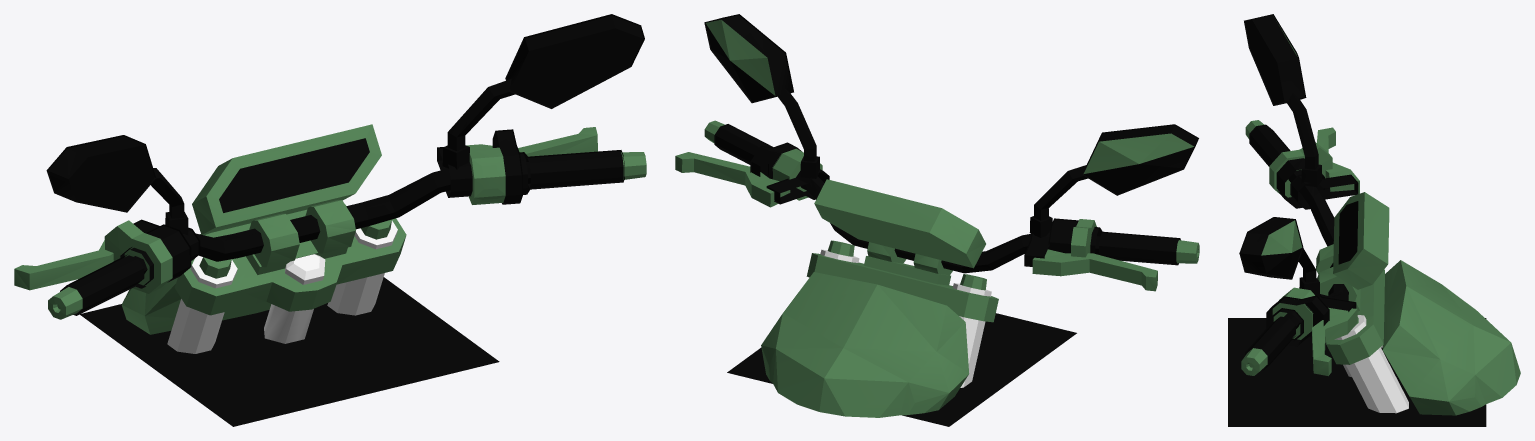
The model's file is BikeHandlesNew.gltf.
3 views of the same model, side by side, from view 1: azimuth 30°, elevation 25°; view 2: azimuth 150°, elevation 25°; view 3: azimuth 270°, elevation 25° (orthographic). The views are drawn at different scales.
Parts seen in each view (by area): view 1: HandlesBike_V2, ImageRef__1_; view 2: HandlesBike_V2, ImageRef__1_; view 3: HandlesBike_V2, ImageRef__1_.
Boxes of the visible parts, <box> form: HandlesBike_V2: <box>14,14,646,353</box>; ImageRef__1_: <box>80,277,499,426</box>; HandlesBike_V2: <box>675,14,1199,417</box>; ImageRef__1_: <box>727,313,1076,426</box>; HandlesBike_V2: <box>1239,14,1520,415</box>; ImageRef__1_: <box>1228,318,1486,426</box>.
Size of the model in its own units: 0.6666 by 0.3189 by 0.3401.
